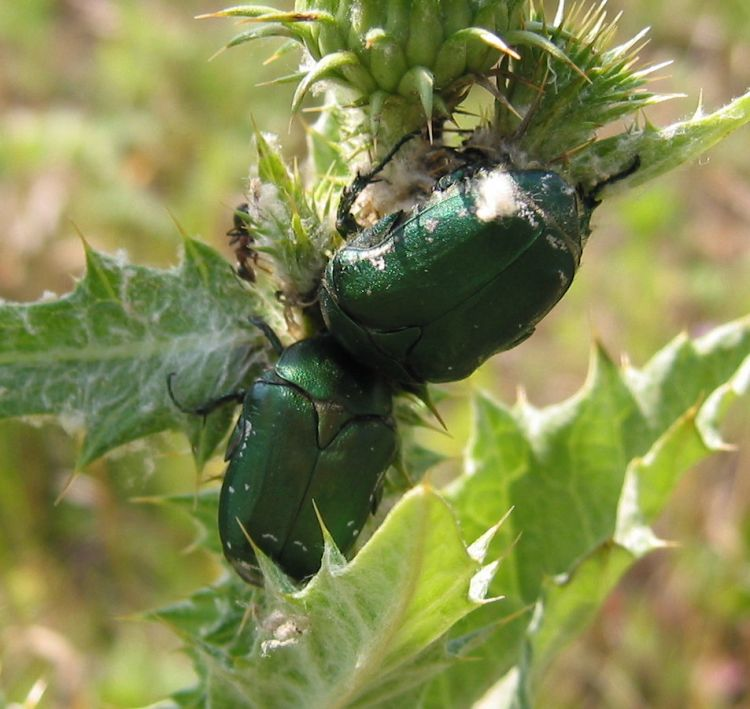Protaetia_ungarica: (313, 119, 610, 387), (162, 322, 401, 595)
